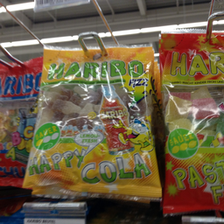candy: (21, 46, 164, 200), (161, 27, 224, 216)
